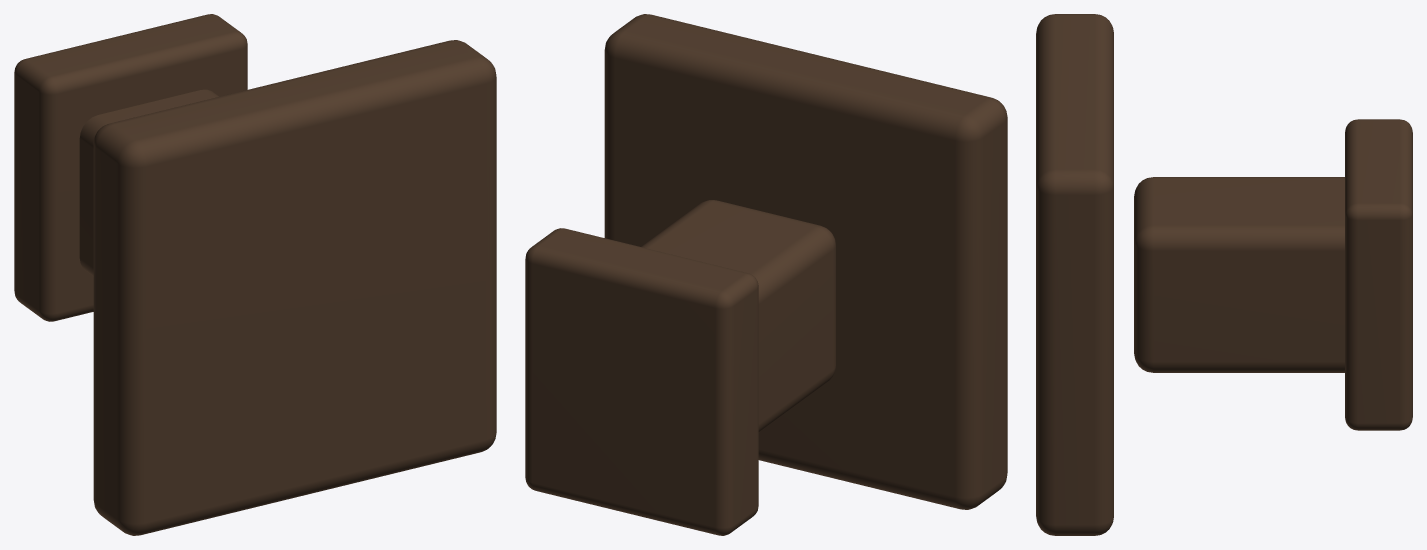
File: eurofit-k-62861rg.glb
The picture shows the model from 3 angles, left to right: view 1: azimuth 30°, elevation 25°; view 2: azimuth 150°, elevation 25°; view 3: azimuth 270°, elevation 25°; orthographic projection. The views are drawn at different scales.
Parts seen in each view (by area): view 1: Knob cap, Knob base, Square tapered stem; view 2: Knob cap, Knob base, Square tapered stem; view 3: Square tapered stem, Knob cap, Knob base.
Part boxes in pixels (x1=…): Knob cap: x1=93, y1=40, x2=496, y2=535; Knob base: x1=14, y1=14, x2=247, y2=321; Square tapered stem: x1=79, y1=89, x2=218, y2=275; Knob cap: x1=604, y1=14, x2=1007, y2=509; Knob base: x1=525, y1=228, x2=758, y2=535; Square tapered stem: x1=641, y1=200, x2=835, y2=431; Square tapered stem: x1=1134, y1=177, x2=1344, y2=372; Knob cap: x1=1036, y1=14, x2=1113, y2=535; Knob base: x1=1345, y1=119, x2=1412, y2=430.
Size of the model in its own units: 0.031 by 0.031 by 0.029.
